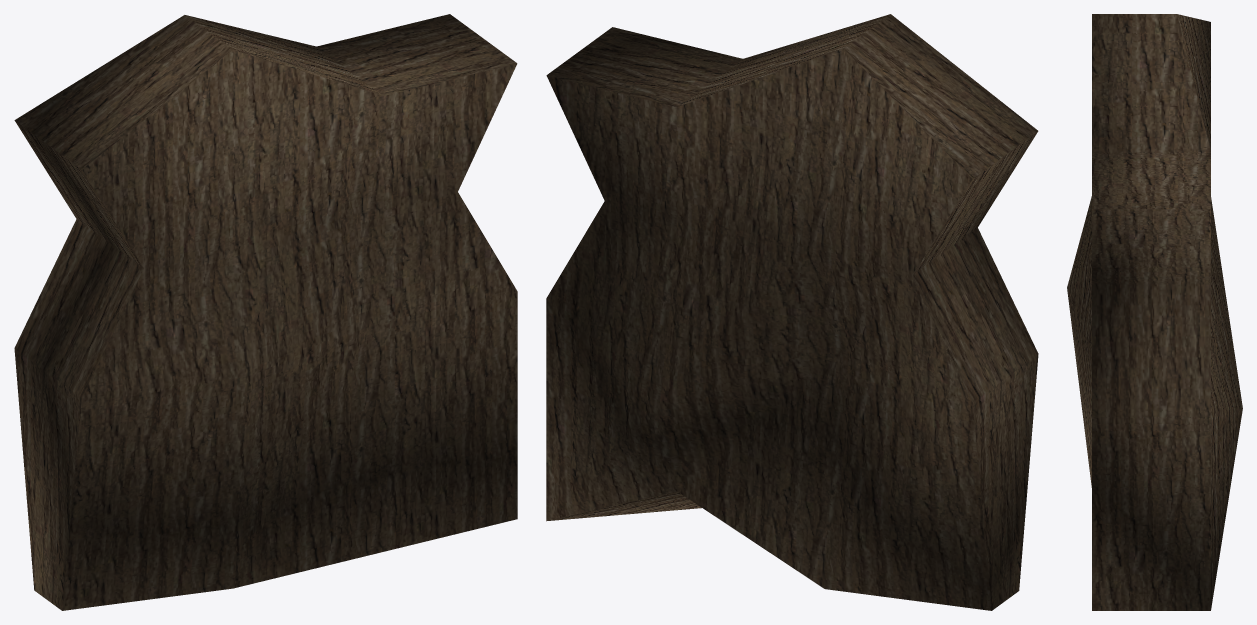
File: item-bark-chip-realistic.glb
3 renders of one model, left to right at view 1: azimuth 30°, elevation 25°; view 2: azimuth 150°, elevation 25°; view 3: azimuth 270°, elevation 25°, orthographic. The views are drawn at different scales.
Size of the model in its own units: 2 by 2.36 by 0.7938.
1 material, 1 textured.
